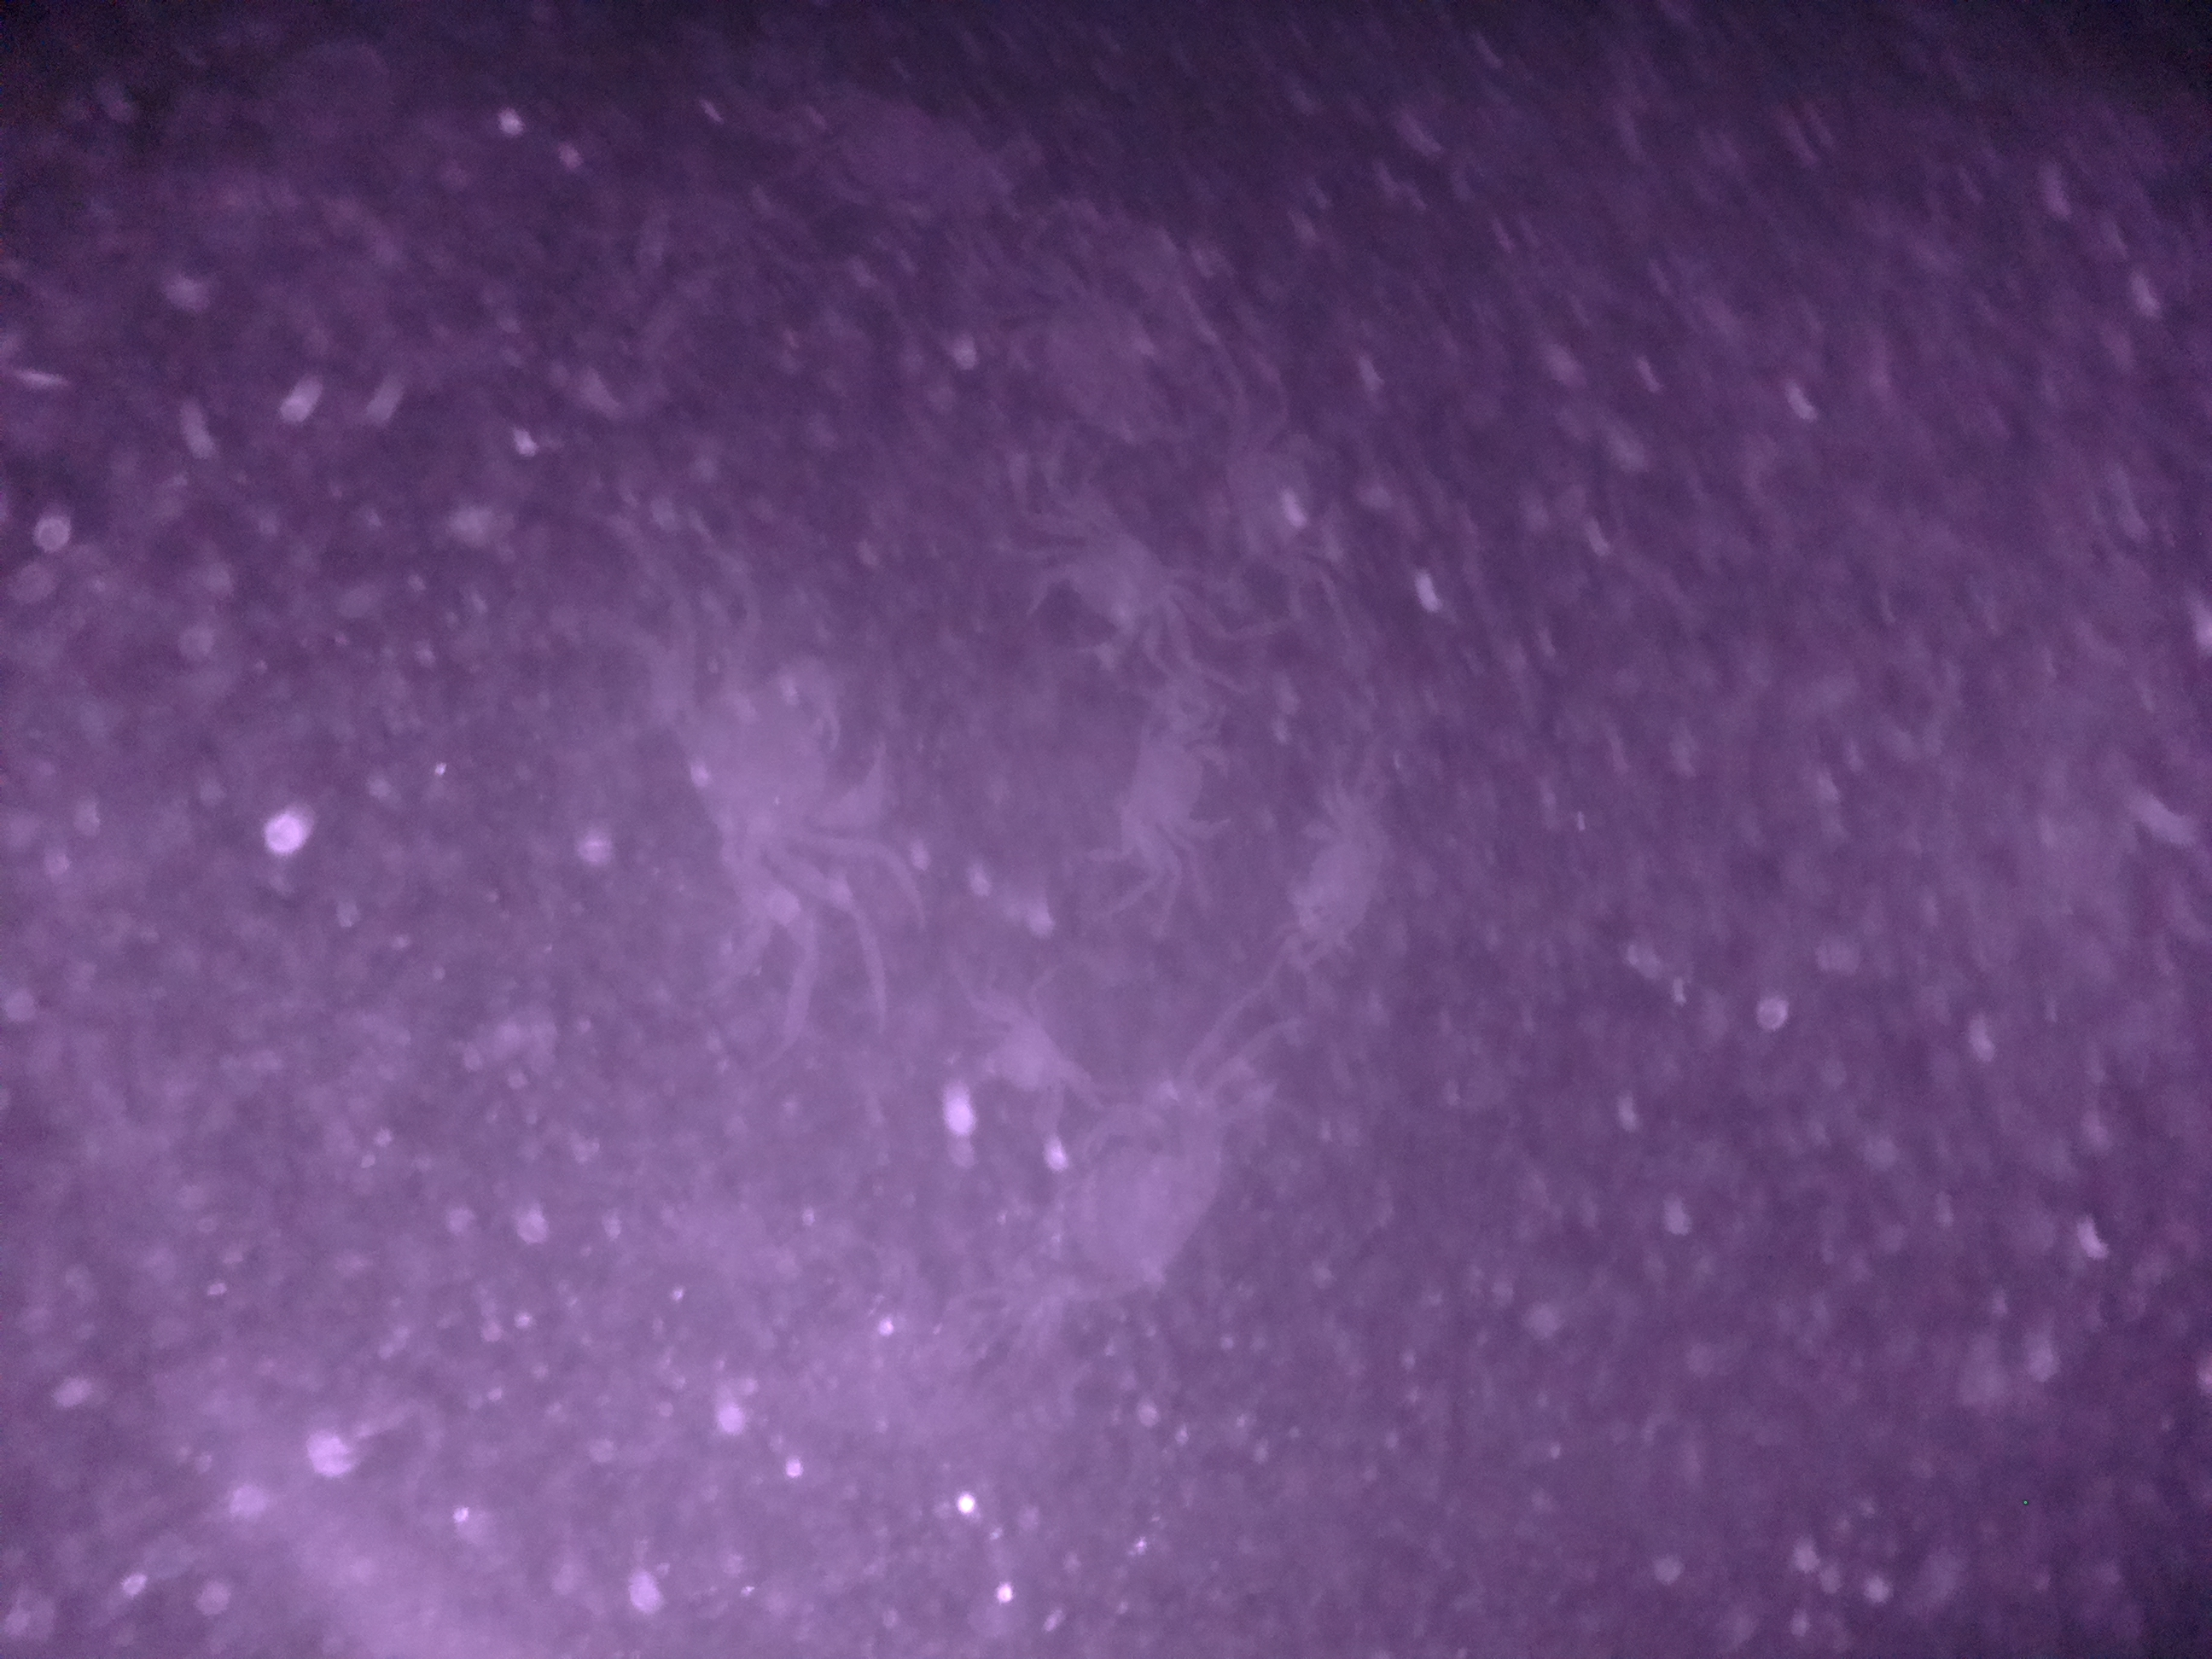Crab: (1008, 477, 1204, 681), (1268, 767, 1407, 979), (1108, 685, 1244, 889), (958, 976, 1094, 1122)
